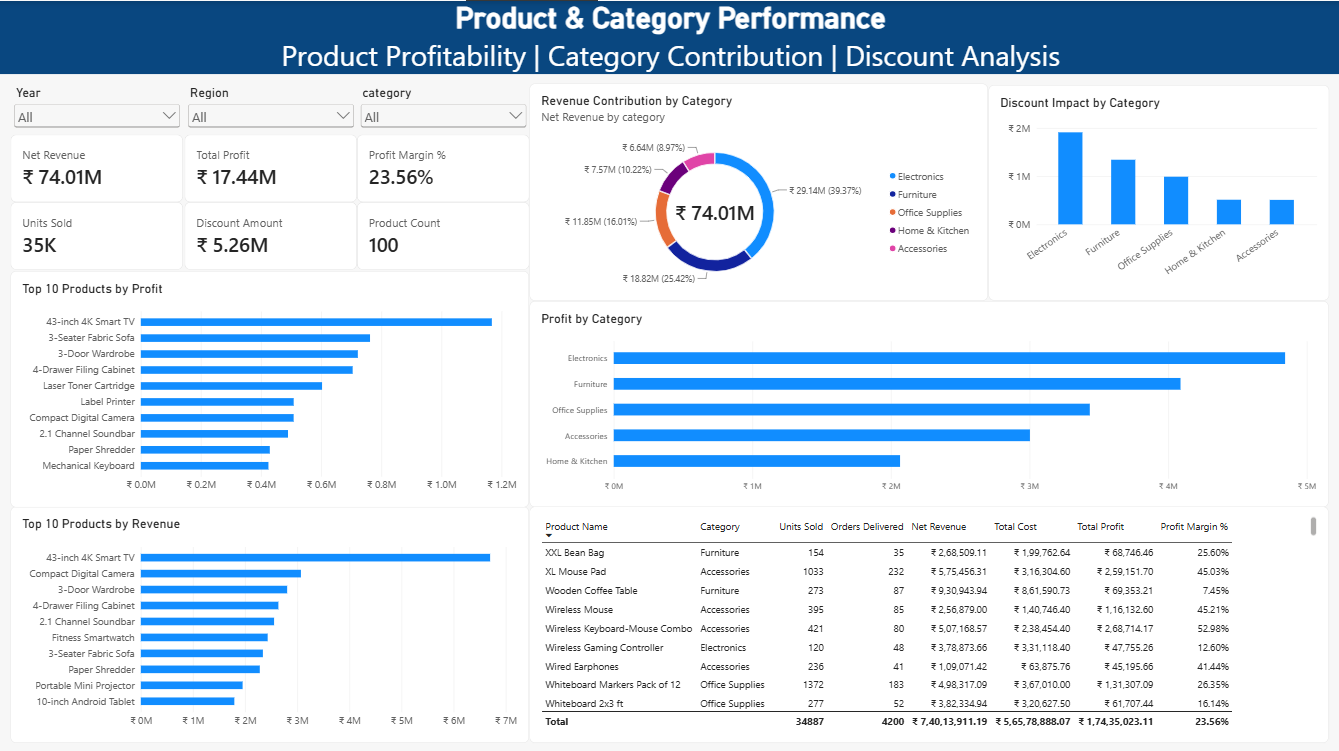

Layout of this report page (visuals, bound fields, positions):
{"tool":"powerbi","page":{"name":"Product & Category Performance","canvas":[1920,1080],"ordinal":2},"visuals":[{"type":"textbox","title":"Product & Category Performance","box":[0,0,1921.5,104.5],"z":0},{"type":"slicer","fields":{"Values":["DimDate.Year"]},"box":[15.9,120.4,247.6,68.1],"z":1000},{"type":"slicer","fields":{"Values":["DimRegion.Region"]},"box":[263.5,120.4,247.6,68.1],"z":2000},{"type":"slicer","fields":{"Values":["products.category"]},"box":[511,120.4,247.6,68.1],"z":3000},{"type":"cardVisual","fields":{"Data":["_Measures.Net Revenue"]},"box":[15.9,190.8,247.6,97.7],"z":4000},{"type":"cardVisual","fields":{"Data":["_Measures.Total Profit"]},"box":[263.5,190.8,247.6,97.7],"z":5000},{"type":"cardVisual","fields":{"Data":["_Measures.Profit Margin %"]},"box":[511,190.8,247.6,97.7],"z":6000},{"type":"cardVisual","fields":{"Data":["_Measures.Units Sold"]},"box":[15.9,288.5,247.6,97.7],"z":7000},{"type":"cardVisual","fields":{"Data":["_Measures.Discount Amount"]},"box":[263.5,288.5,247.6,97.7],"z":8000},{"type":"cardVisual","fields":{"Data":["_Measures.Product Count"]},"box":[511,288.5,247.6,97.7],"z":9000},{"type":"donutChart","title":"Revenue Contribution by Category","fields":{"Category":["products.category"],"Y":["_Measures.Net Revenue"]},"box":[758.6,118.1,656.4,311.2],"z":10000},{"type":"clusteredBarChart","title":"Profit by Category","fields":{"Category":["products.category"],"Y":["_Measures.Total Profit"]},"box":[758.6,429.3,1144.7,295.3],"z":11000},{"type":"clusteredBarChart","title":"Top 10 Products by Revenue","fields":{"Category":["products.product_name"],"Y":["_Measures.Net Revenue"]},"box":[15.9,724.5,742.7,338.4],"z":12000},{"type":"clusteredBarChart","title":"Top 10 Products by Profit","fields":{"Category":["products.product_name"],"Y":["_Measures.Total Profit"]},"box":[15.9,386.1,742.7,338.4],"z":13000},{"type":"tableEx","fields":{"Values":["products.product_name","products.category","_Measures.Units Sold","_Measures.Delivered Orders by Product","_Measures.Net Revenue","_Measures.Total Cost","_Measures.Total Profit","_Measures.Profit Margin %"]},"box":[758.6,724.5,1144.7,338.4],"z":14000},{"type":"clusteredColumnChart","title":"Discount Impact by Category","fields":{"Category":["products.category"],"Y":["_Measures.Discount Amount"]},"box":[1415,120.4,488.3,308.9],"z":15000}]}

Visuals, with their boxes in screenshot pixels (x1, y1, x2, y2), scaled from the page's 1920x1080 canvas onto the 1339x751 screenshot:
"Product & Category Performance" textbox: 0:0:1338:73
slicer - DimDate.Year: 11:84:184:131
slicer - DimRegion.Region: 184:84:356:131
slicer - products.category: 356:84:529:131
cardVisual - _Measures.Net Revenue: 11:133:184:201
cardVisual - _Measures.Total Profit: 184:133:356:201
cardVisual - _Measures.Profit Margin %: 356:133:529:201
cardVisual - _Measures.Units Sold: 11:201:184:269
cardVisual - _Measures.Discount Amount: 184:201:356:269
cardVisual - _Measures.Product Count: 356:201:529:269
"Revenue Contribution by Category" donutChart: 529:82:987:299
"Profit by Category" clusteredBarChart: 529:299:1327:504
"Top 10 Products by Revenue" clusteredBarChart: 11:504:529:739
"Top 10 Products by Profit" clusteredBarChart: 11:268:529:504
tableEx - products.product_name x products.category: 529:504:1327:739
"Discount Impact by Category" clusteredColumnChart: 987:84:1327:299
